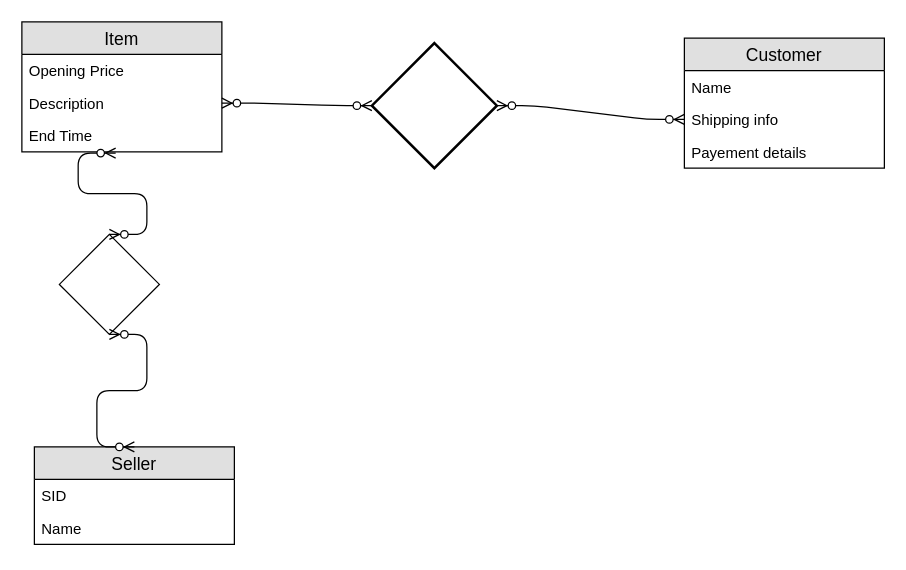
This 906x570 diagram has some shape labels left out. Here are the shapes that lost their labels. From the top down, the centre of each, then its label:
At (434,105): "Bid Bid ID Amount CID IID".
At (108,283): "Create Listing SID->IID".
